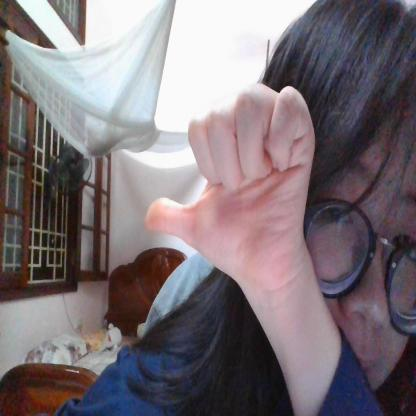right: (145, 82, 316, 310)
